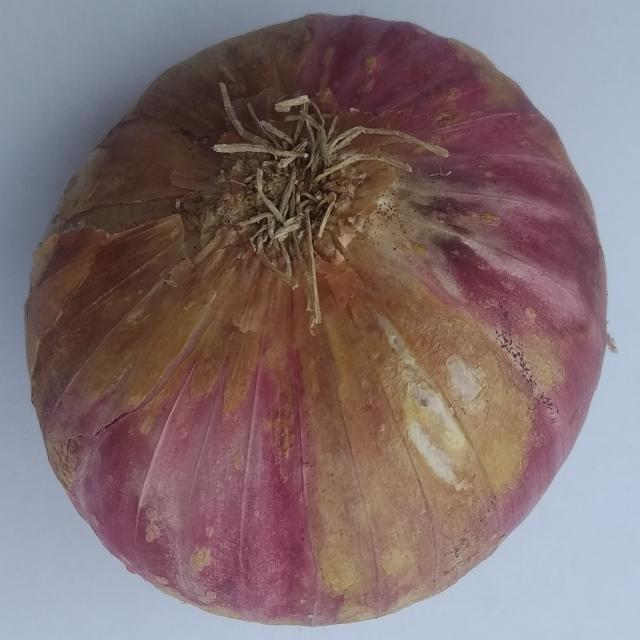onion: (22, 9, 614, 634)
